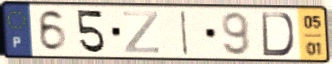5: (75, 8, 108, 55)
6: (36, 9, 69, 53)
9: (219, 10, 252, 57)
D: (260, 10, 297, 58)
I: (179, 9, 190, 57)
Z: (122, 9, 161, 55)
